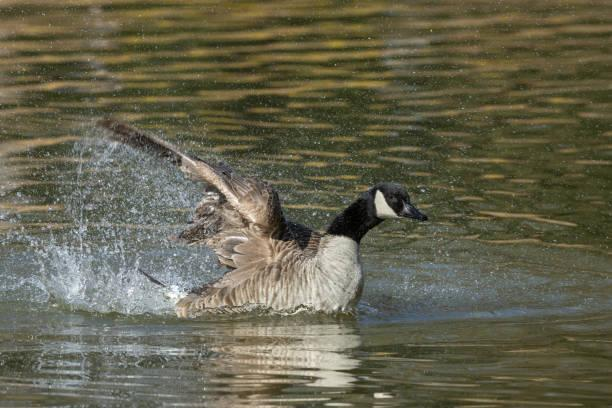Canadian-Goose: (94, 107, 428, 318)
